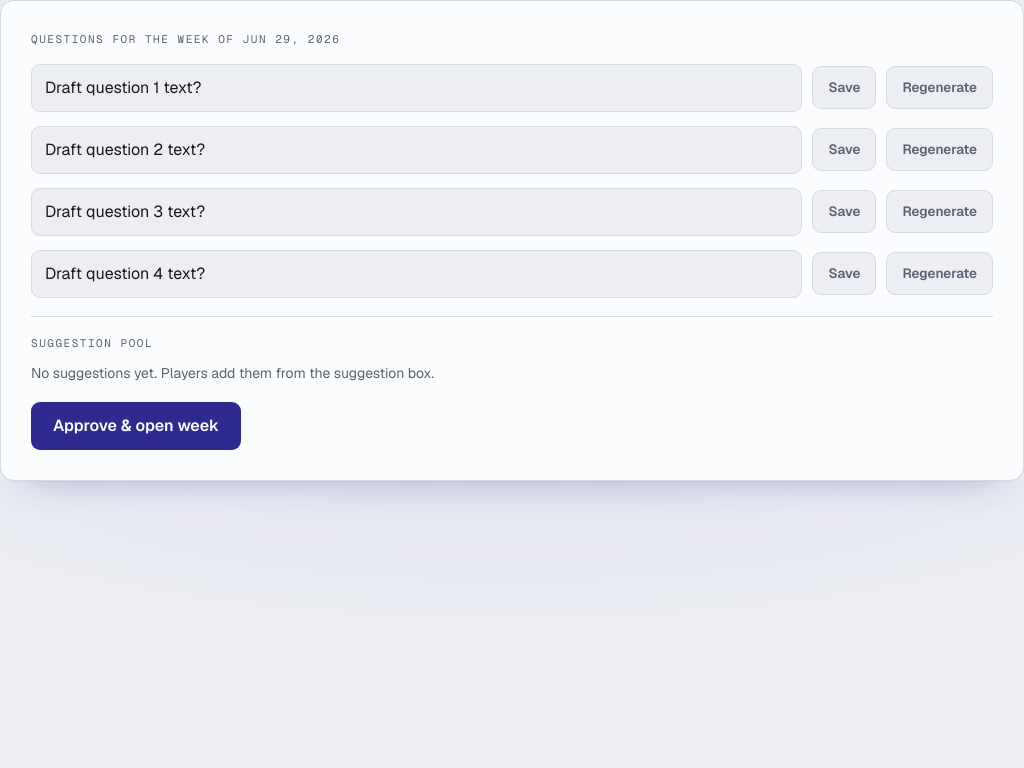
Test case: AdminQuestionReview: regenerate › shows an error alert and does not throw when the regenerate response is not ok
The image size is (1024, 768).
Click the 1st button "Regenerate" at [940, 88], box [886, 66, 993, 109]
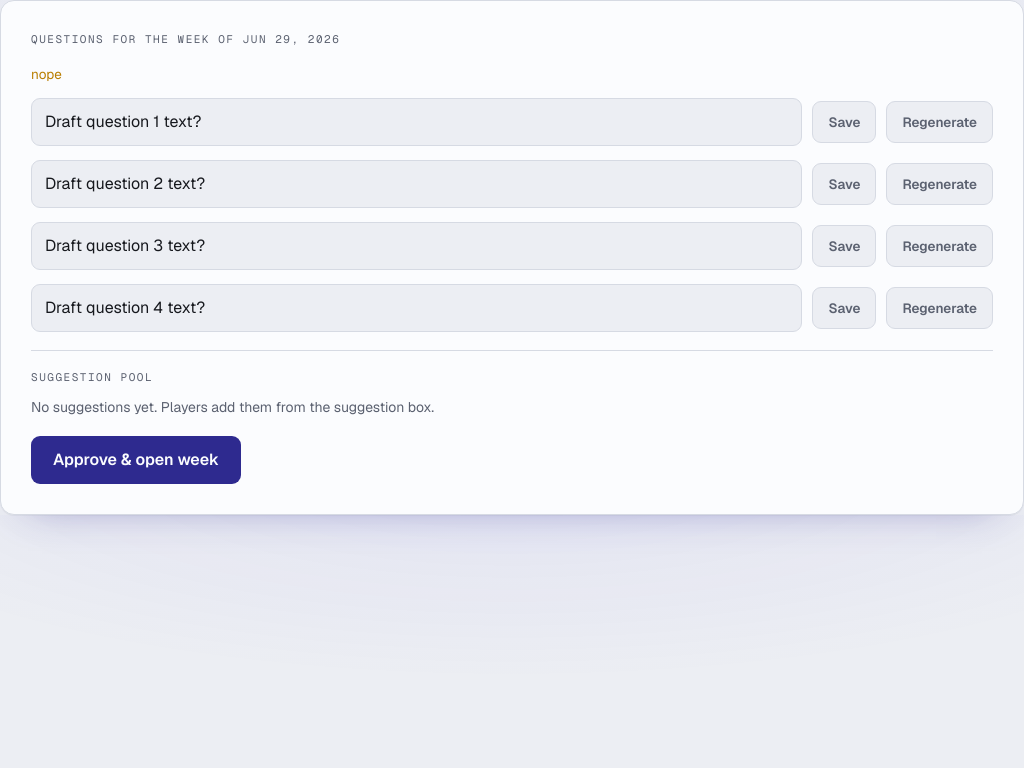
Result: the message "nope" is shown at [31, 64, 62, 82]
